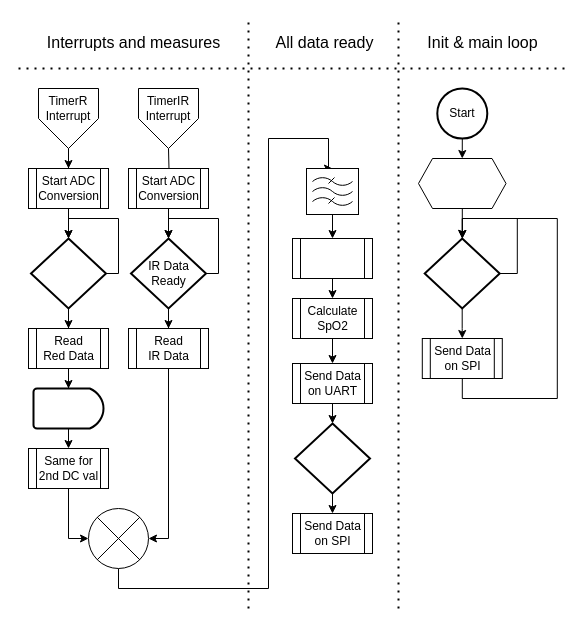
The diagram is 587 pixels wide and 627 high, and some of its shapes have lost their labels. The centre of each missing label's shape, as x and y in pixels:
Compute Vpp & Vdc: (332,258)
Delay 270 µs: (68,408)
Initialization: (462,183)
R Data Ready: (68,273)
SPI Data Asked: (461,273)
SPI Mode Continuous: (332,458)
